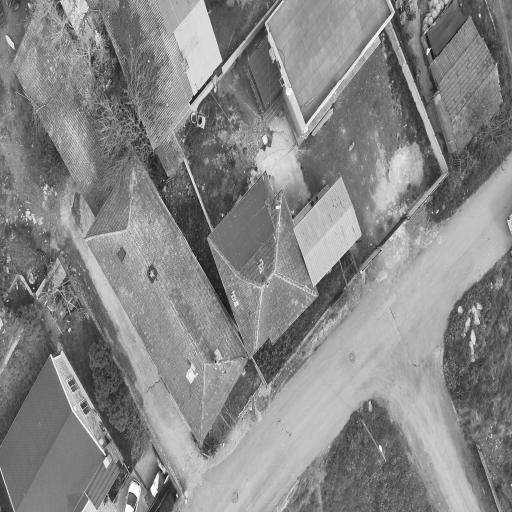car: (124, 479, 142, 512), (506, 213, 511, 234)
